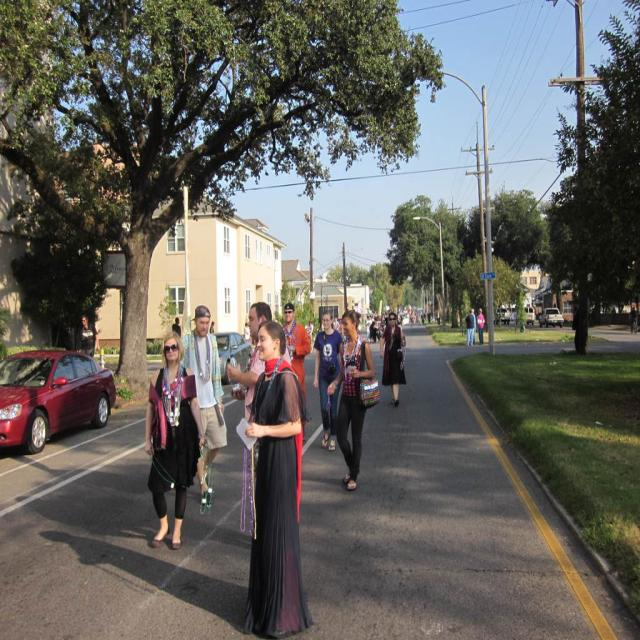car: (0, 350, 121, 451)
